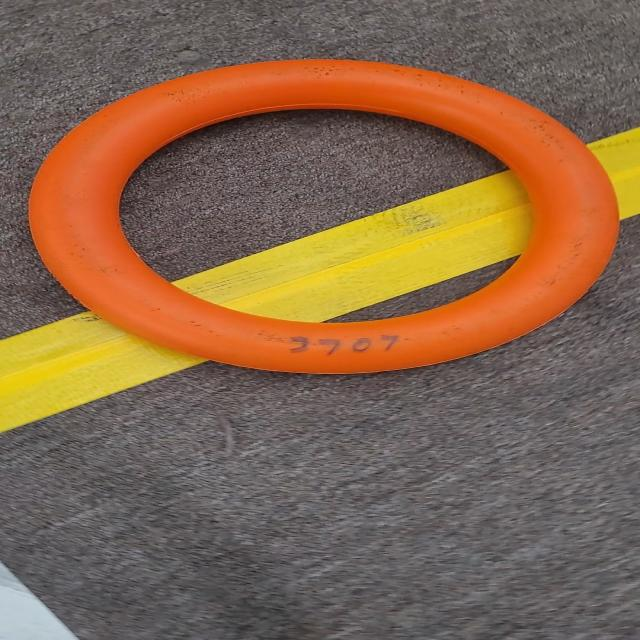note: (4, 52, 630, 384)
